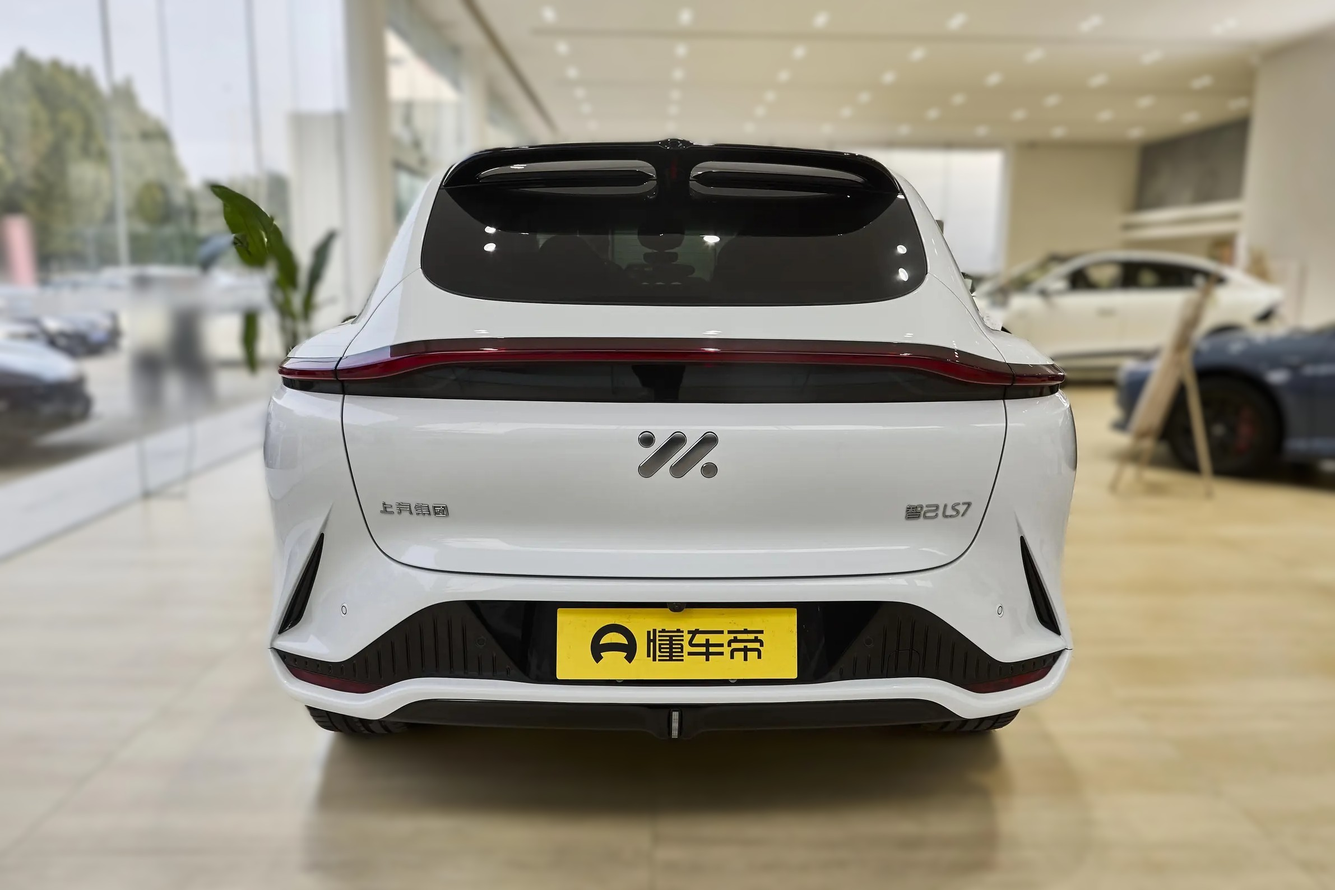IM: (639, 433, 717, 478)
